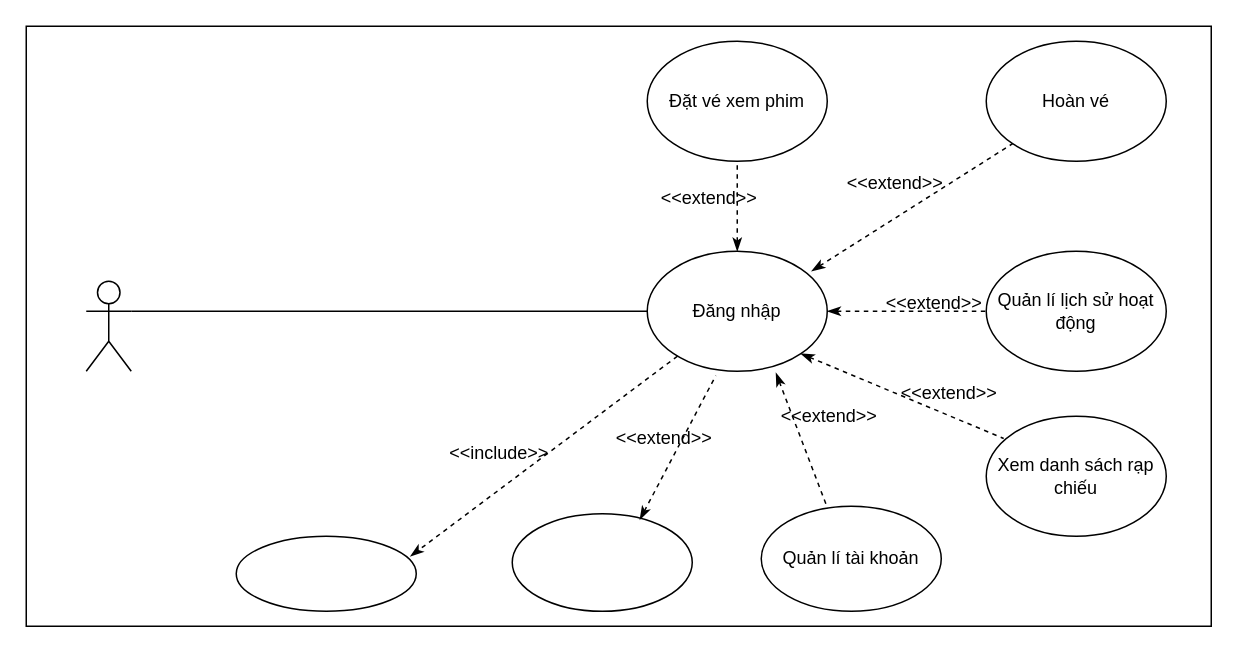
Image size: 1238x653. Some labels were removed from this diagram. Each missing label, with the centre of its shape:
"Khách Hàng" goes at (x=108, y=325).
"Tìm kiếm phim" goes at (x=601, y=561).
"Xem danh sách phim đang chiếu" goes at (x=325, y=573).
